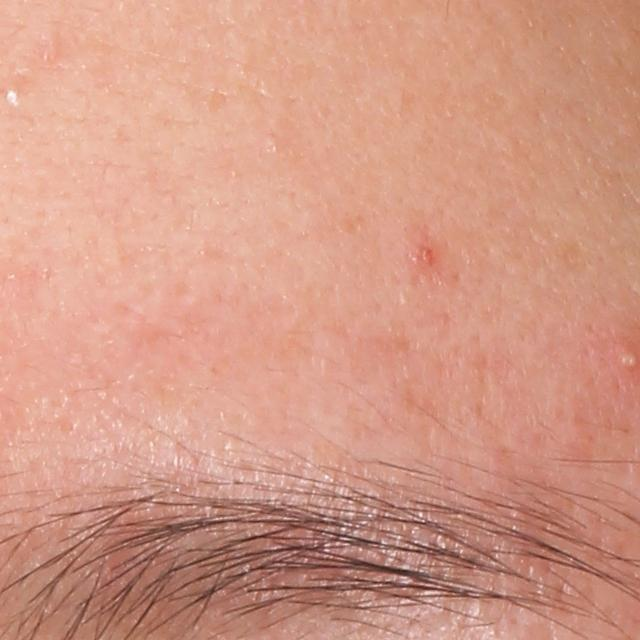comedo: (0, 83, 25, 108)
papule: (416, 245, 438, 268)
